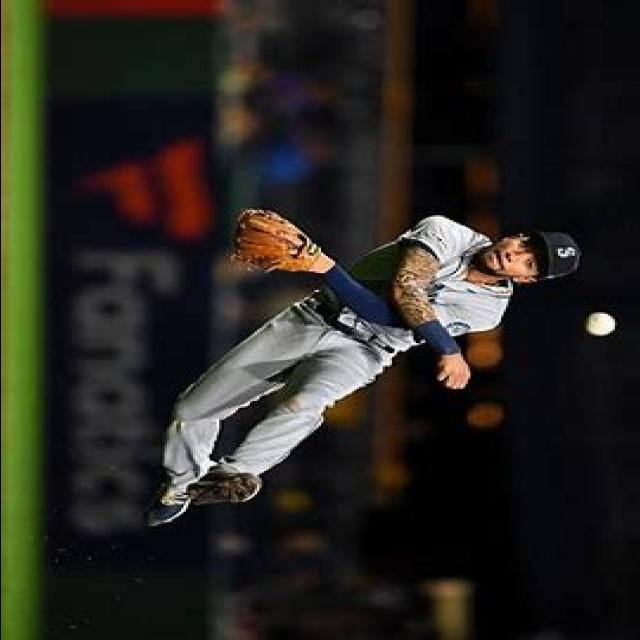ball: (582, 310, 618, 336)
glove: (230, 207, 325, 274)
